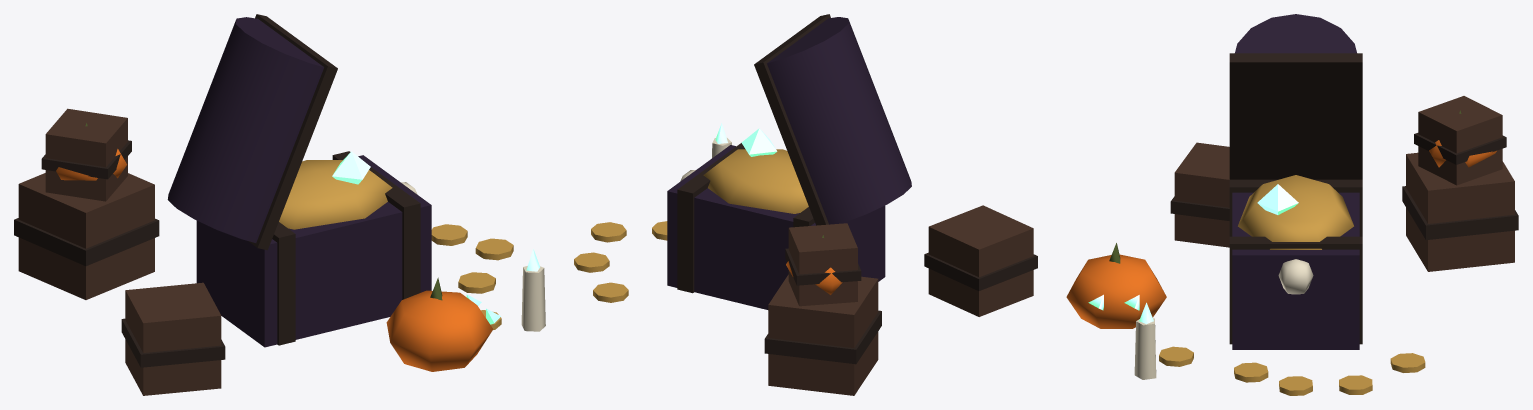
File: landmark_treasure.glb
The picture shows the model from 3 angles, left to right: view 1: azimuth 30°, elevation 25°; view 2: azimuth 150°, elevation 25°; view 3: azimuth 270°, elevation 25°; orthographic projection. The views are drawn at different scales.
Parts seen in each view (by area): view 1: chest_body, chest_lid_shell, crate_0_box, crate_1_box, jack, crate_2_box, chest_gold, chest, chest_lid_rim, crate_0_band, crate_1_band, candle (+6 smaller); view 2: chest_lid_shell, chest_body, crate_0_box, crate_1_box, chest_gold, crate_2_box, chest_lid_rim, chest, crate_0_band, crate_1_band, crate_2_band, chest_gem (+3 smaller); view 3: chest_lid_rim, chest_body, crate_0_box, chest_gold, jack, crate_2_box, crate_1_box, chest_lid_shell, chest, crate_0_band, candle, crate_2_band (+9 smaller).
Part boxes in pixels (bbox=[...]): chest_body: bbox=[196, 155, 431, 347]; chest_lid_shell: bbox=[167, 17, 323, 242]; crate_0_box: bbox=[18, 173, 154, 299]; crate_1_box: bbox=[125, 282, 221, 395]; jack: bbox=[386, 290, 493, 371]; crate_2_box: bbox=[45, 108, 127, 201]; chest_gold: bbox=[279, 160, 392, 229]; chest: bbox=[272, 151, 420, 345]; chest_lid_rim: bbox=[248, 14, 337, 250]; crate_0_band: bbox=[14, 218, 159, 266]; crate_1_band: bbox=[121, 318, 225, 367]; candle: bbox=[521, 266, 545, 331]; chest_lid_shell: bbox=[767, 17, 911, 224]; chest_body: bbox=[667, 145, 885, 309]; crate_0_box: bbox=[768, 274, 878, 395]; crate_1_box: bbox=[928, 205, 1033, 316]; chest_gold: bbox=[703, 149, 808, 213]; crate_2_box: bbox=[788, 223, 857, 306]; chest_lid_rim: bbox=[754, 14, 830, 225]; chest: bbox=[677, 143, 814, 293]; crate_0_band: bbox=[764, 310, 881, 364]; crate_1_band: bbox=[924, 252, 1037, 290]; crate_2_band: bbox=[785, 248, 861, 285]; chest_gem: bbox=[741, 128, 777, 156]; chest_lid_rim: bbox=[1229, 53, 1362, 179]; chest_body: bbox=[1232, 192, 1359, 349]; crate_0_box: bbox=[1406, 152, 1514, 271]; chest_gold: bbox=[1238, 175, 1353, 249]; jack: bbox=[1066, 254, 1166, 328]; crate_2_box: bbox=[1418, 96, 1502, 185]; crate_1_box: bbox=[1174, 142, 1229, 247]; chest_lid_shell: bbox=[1235, 14, 1356, 53]; chest: bbox=[1229, 179, 1362, 344]; crate_0_band: bbox=[1402, 186, 1518, 240]; candle: bbox=[1134, 318, 1156, 379]; crate_2_band: bbox=[1414, 133, 1506, 164].
Size of the model in its own units: 0.3051 by 0.1969 by 0.3026.
